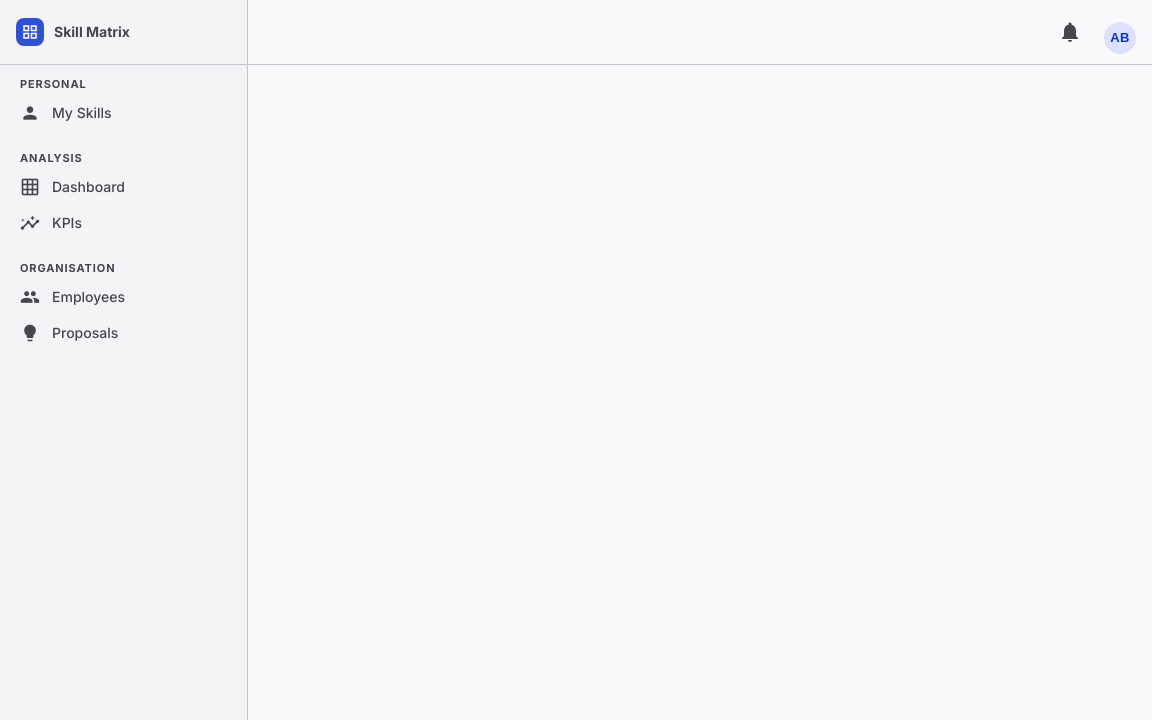
ShellComponent › puts settings, language, theme and sign out in the account menu
Step 1. Click the button with class "account-button" → (1116, 32), box [1096,12,1136,52]
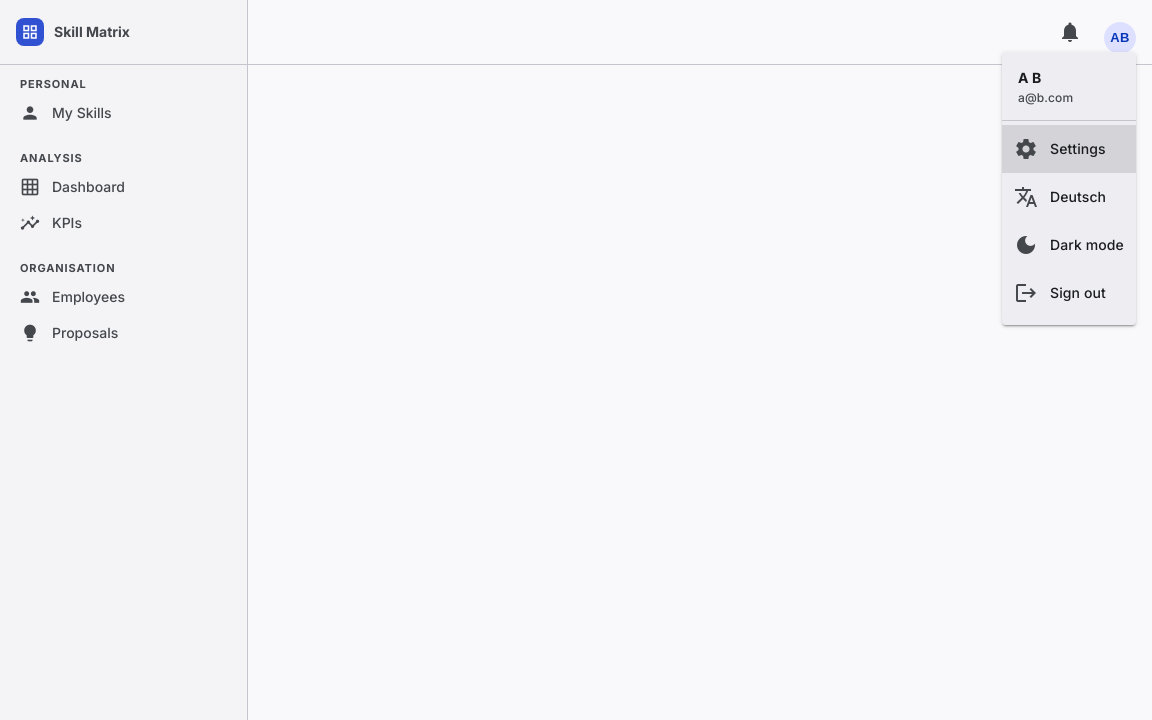
Now the text with class "account-email" reads "a@b.com", box [1018,90,1073,105]
